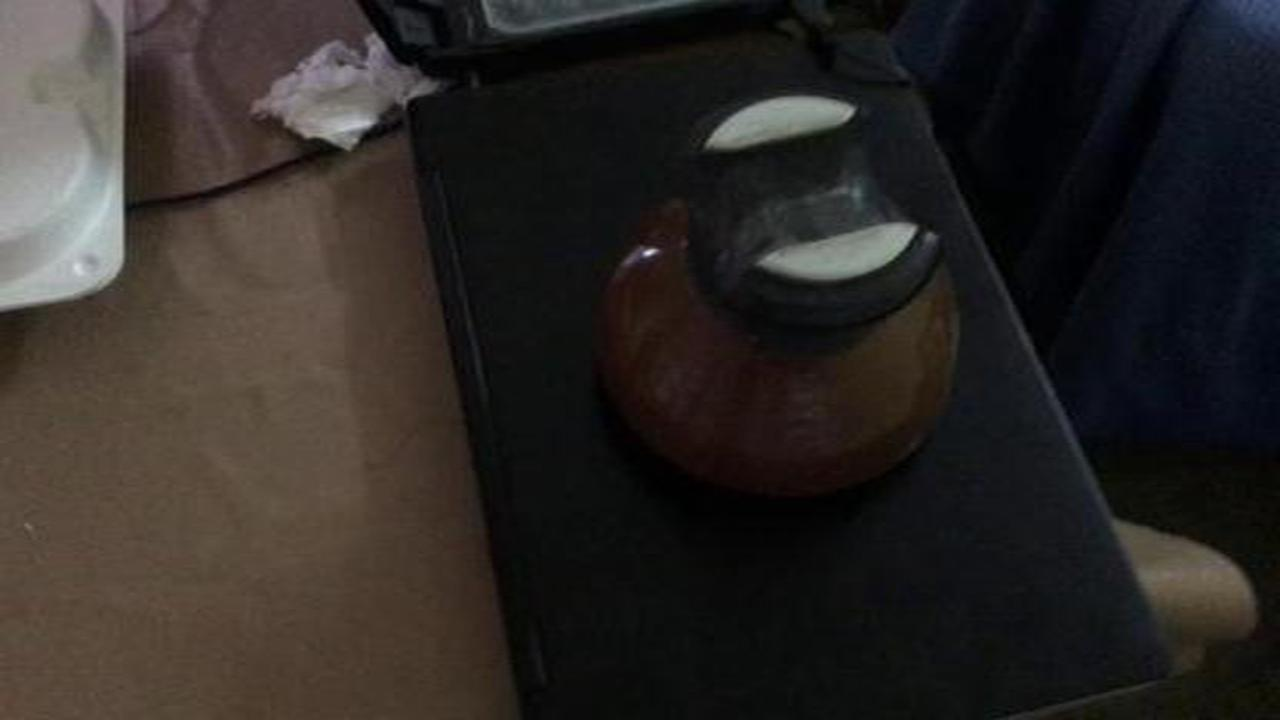insulator_pin: (570, 78, 1004, 523)
